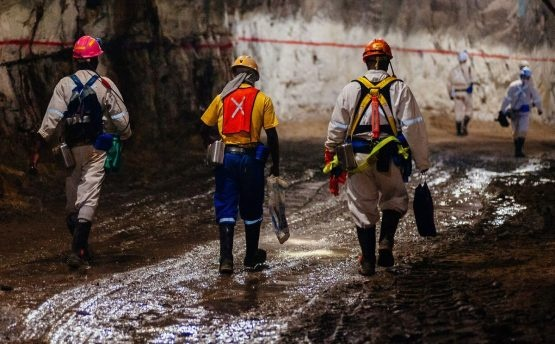blue: (519, 65, 532, 80), (457, 51, 467, 64)
red: (71, 35, 104, 71), (360, 38, 393, 72)
yellow: (232, 53, 260, 83)
